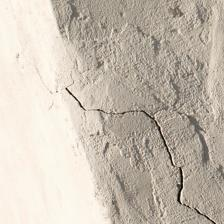Crack: (56, 98, 184, 224), (69, 16, 150, 75)
